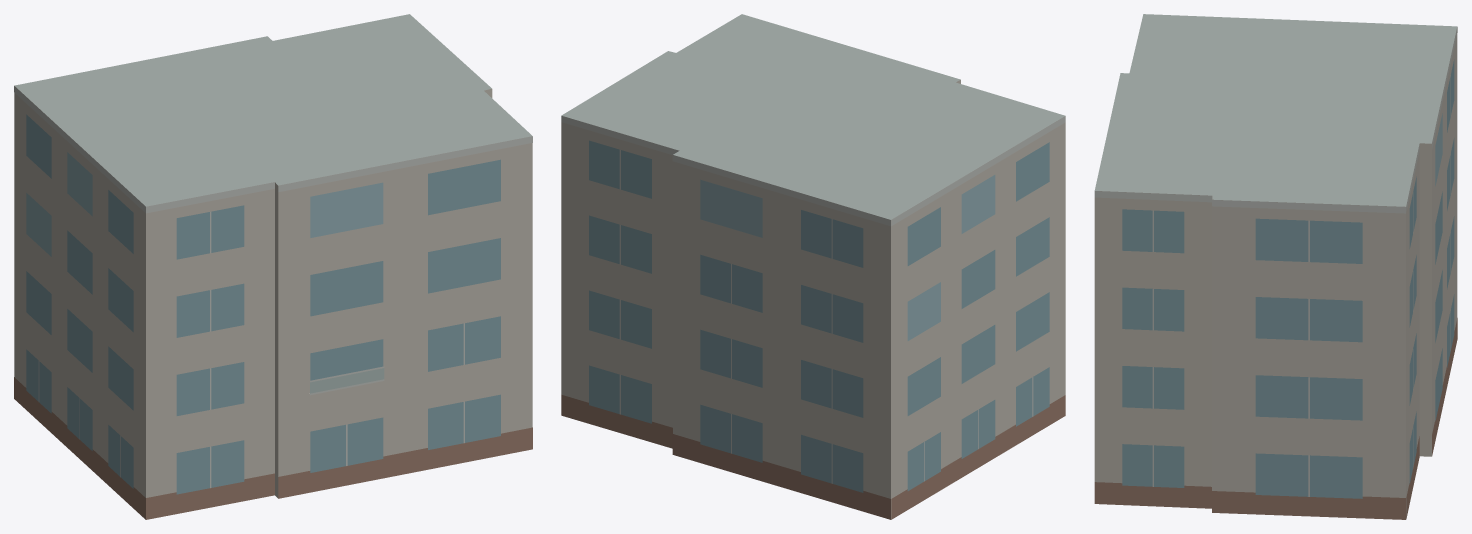
File: survey-upis-32950867.glb
3 renders of one model, left to right at view 1: azimuth 30°, elevation 25°; view 2: azimuth 150°, elevation 25°; view 3: azimuth 270°, elevation 25°, orthographic. The views are drawn at different scales.
Visible parts, largest first — view 1: survey-upis-32950867.tmp; view 2: survey-upis-32950867.tmp; view 3: survey-upis-32950867.tmp.
Part boxes in pixels (left/top/right/bottom): survey-upis-32950867.tmp: left=14, top=14, right=532, bottom=519; survey-upis-32950867.tmp: left=561, top=14, right=1065, bottom=519; survey-upis-32950867.tmp: left=1094, top=14, right=1457, bottom=519.
Size of the model in its own units: 15 by 11.35 by 11.93.
